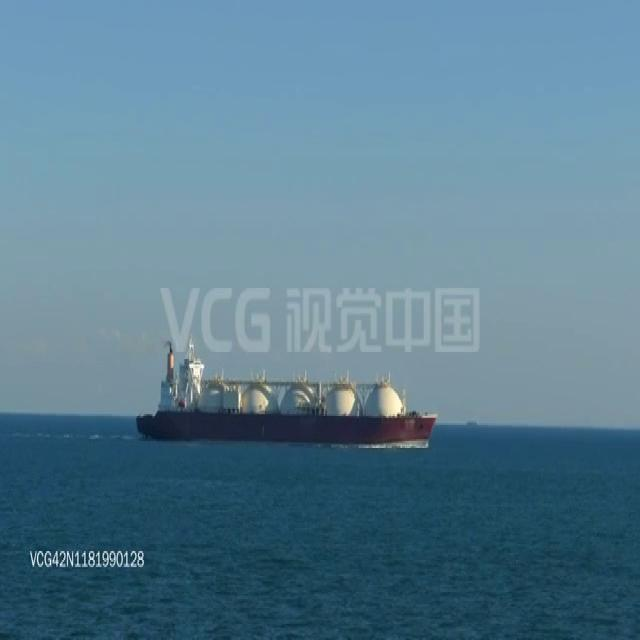cargoship: (133, 336, 438, 448)
